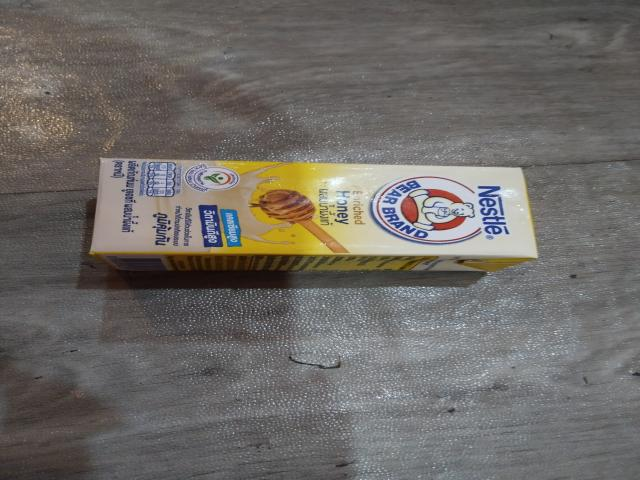drink_box: (82, 154, 539, 279)
